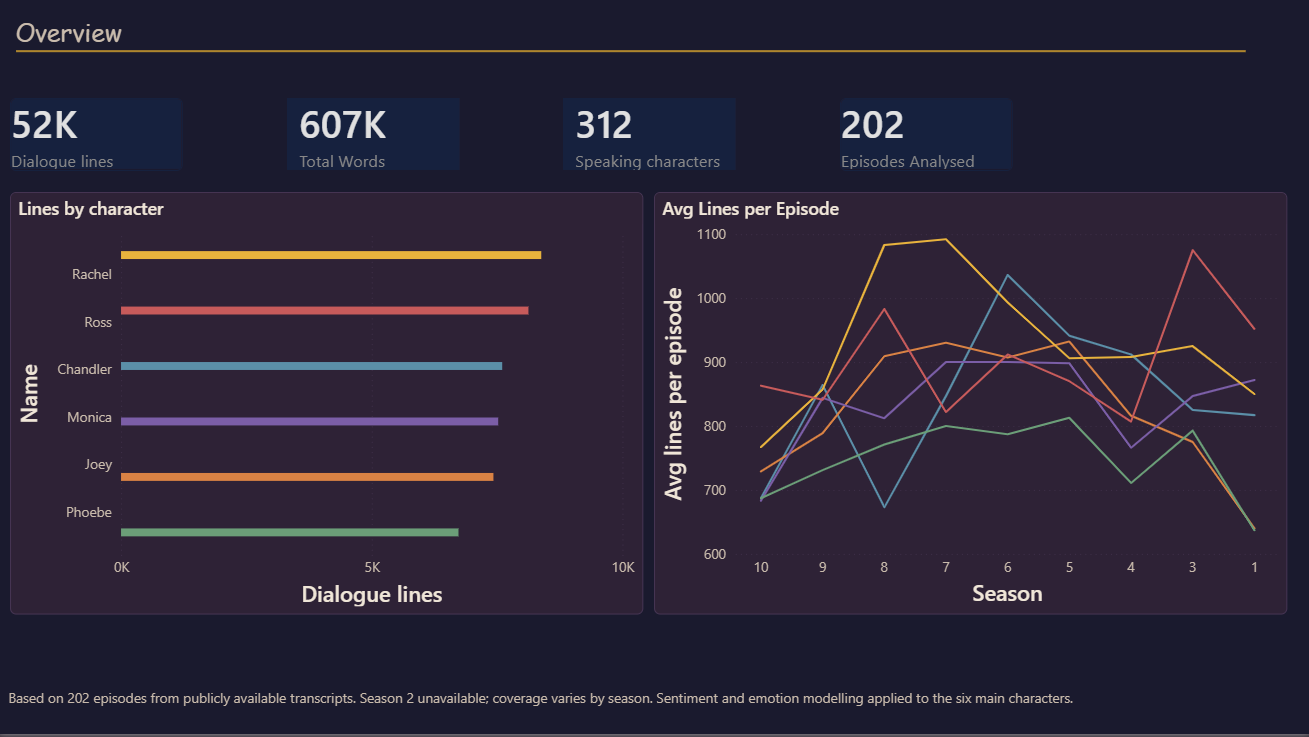

This screenshot's page, from the dashboard's own definition file:
{"tool":"powerbi","page":{"name":"Overview","canvas":[1280,720],"ordinal":0},"visuals":[{"type":"cardVisual","fields":{"Data":["_Measures.Total Lines"]},"box":[13.6,101.2,168,70.9],"z":0},{"type":"cardVisual","fields":{"Data":["_Measures.Total Words"]},"box":[282.6,101.2,168,70.9],"z":1000},{"type":"cardVisual","fields":{"Data":["_Measures.Total Characters"]},"box":[551.6,101.2,168.3,70],"z":2000},{"type":"clusteredBarChart","title":"Lines by character","fields":{"Category":["DimCharacter.Name"],"Series":["DimCharacter.Name"],"Y":["_Measures.Total Lines"]},"box":[13.6,192.7,615.7,411.4],"z":3000},{"type":"lineChart","title":"Avg Lines per Episode","fields":{"Category":["Dialogue.Season"],"Series":["DimCharacter.Name"],"Y":["_Measures.Total Lines"]},"box":[640,192.9,616,411],"z":4000},{"type":"cardVisual","fields":{"Data":["_Measures.Episodes Covered"]},"box":[820.9,101.2,168,70.9],"z":5000},{"type":"textbox","box":[6.8,670.2,1248.9,49.6],"z":6000},{"type":"textbox","box":[13.6,15.6,164.4,45.7],"z":7000},{"type":"shape","box":[17.5,49.6,1200,12],"z":8000}]}

Visuals, with their boxes in screenshot pixels (x1, y1, x2, y2), scaled from the page's 1280x720 canvas onto the 1309x737 screenshot:
cardVisual - _Measures.Total Lines: [x1=14, y1=104, x2=186, y2=176]
cardVisual - _Measures.Total Words: [x1=289, y1=104, x2=461, y2=176]
cardVisual - _Measures.Total Characters: [x1=564, y1=104, x2=736, y2=175]
"Lines by character" clusteredBarChart: [x1=14, y1=197, x2=644, y2=618]
"Avg Lines per Episode" lineChart: [x1=654, y1=197, x2=1284, y2=618]
cardVisual - _Measures.Episodes Covered: [x1=839, y1=104, x2=1011, y2=176]
textbox: [x1=7, y1=686, x2=1284, y2=736]
textbox: [x1=14, y1=16, x2=182, y2=63]
shape: [x1=18, y1=51, x2=1245, y2=63]
